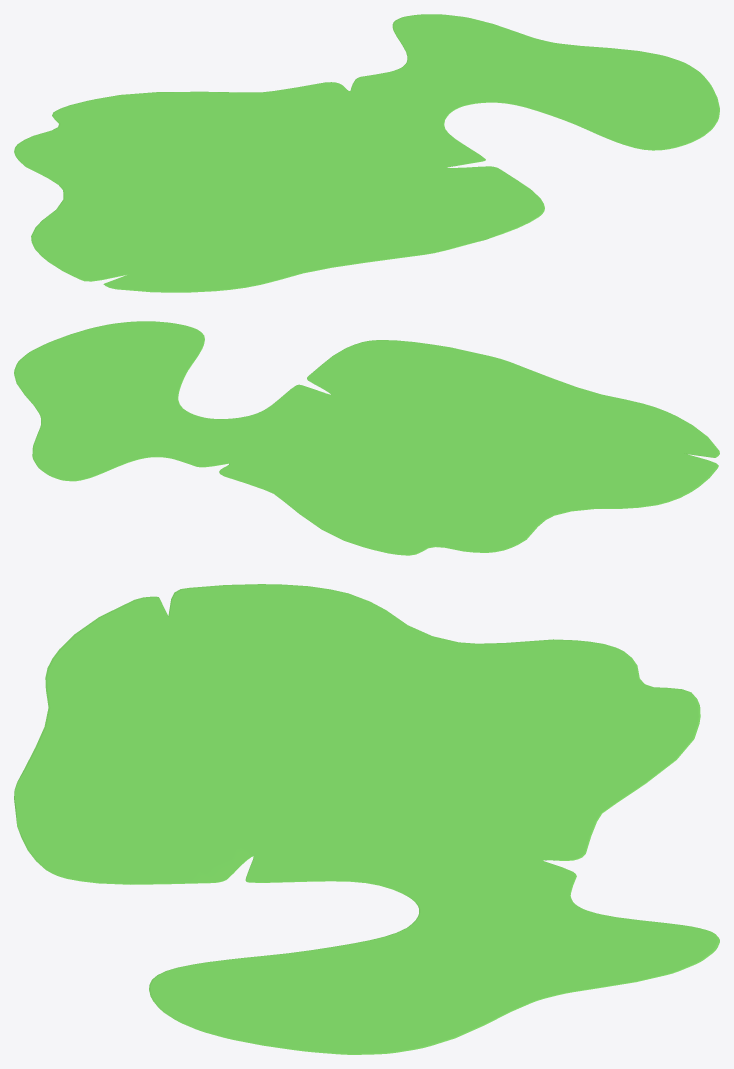
Rendered from Island_3_Grass.fbx.
The picture shows the model from 3 angles, top to bottom: view 1: azimuth 30°, elevation 25°; view 2: azimuth 150°, elevation 25°; view 3: azimuth 270°, elevation 25°; orthographic projection. The views are drawn at different scales.
Parts seen in each view (by area): view 1: Island_3_Grass; view 2: Island_3_Grass; view 3: Island_3_Grass.
Part boxes in pixels (left/top/right/bottom): Island_3_Grass: left=14, top=14, right=719, bottom=292; Island_3_Grass: left=14, top=321, right=719, bottom=555; Island_3_Grass: left=14, top=584, right=719, bottom=1054.
Size of the model in its own units: 15475 by 6.75 by 9806.
